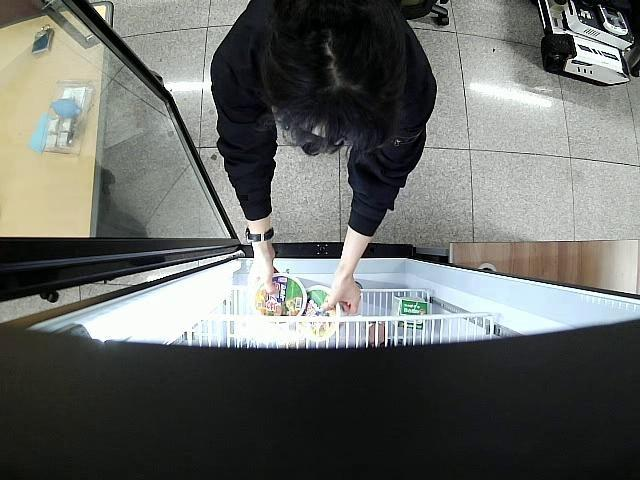09_yukGaeJang: (297, 283, 346, 340), (252, 272, 308, 320)
